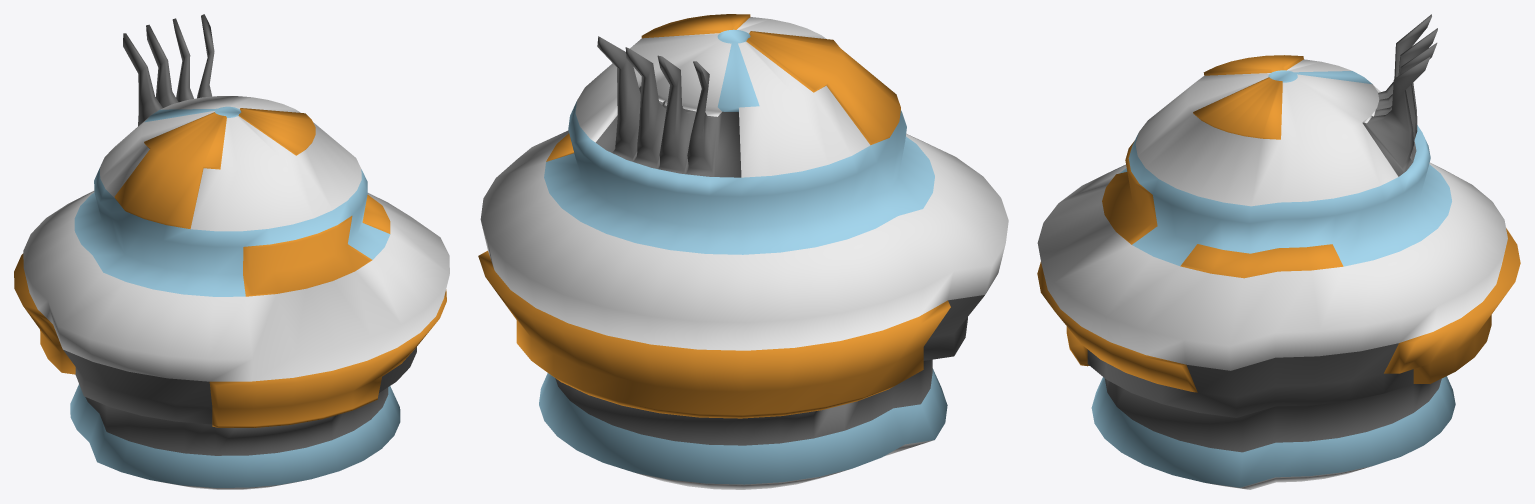
Rendered from head3.glb.
3 views of the same model, side by side, from view 1: azimuth 30°, elevation 25°; view 2: azimuth 150°, elevation 25°; view 3: azimuth 270°, elevation 25° (orthographic). The views are drawn at different scales.
Visible parts, largest first — view 1: body2; view 2: body2; view 3: body2.
Boxes of the visible parts, left/top/right/bottom form: body2: left=14, top=14, right=449, bottom=489; body2: left=478, top=14, right=1008, bottom=489; body2: left=1037, top=14, right=1520, bottom=489.
Size of the model in its own units: 1.87 by 1.72 by 1.88.
